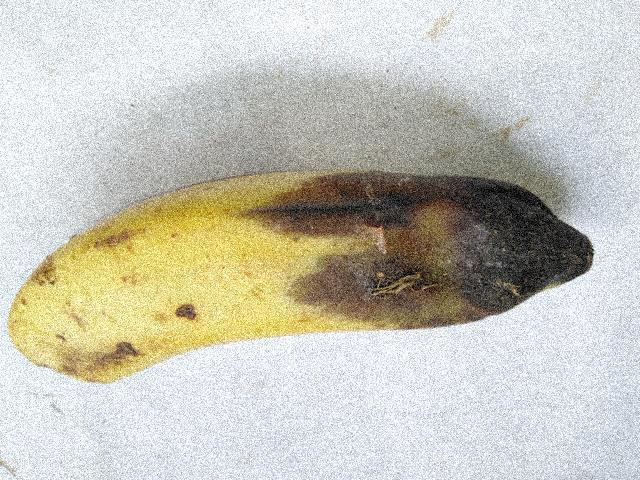rotten: (273, 138, 587, 352)
